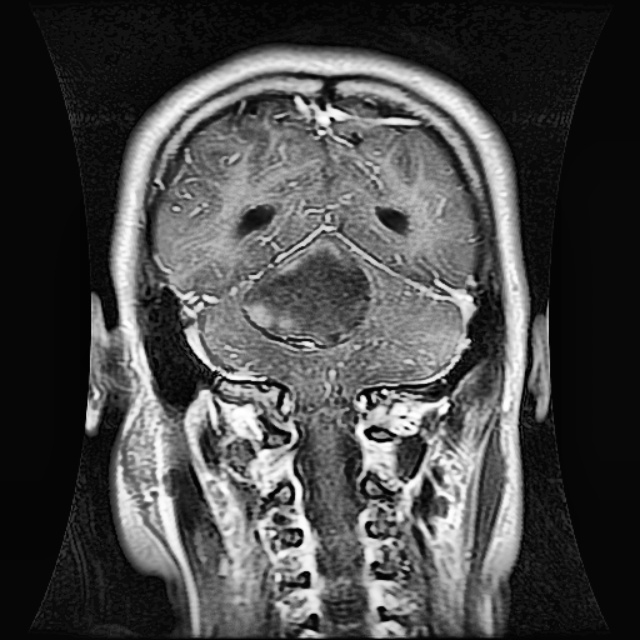Meningioma: (238, 233, 375, 350)
